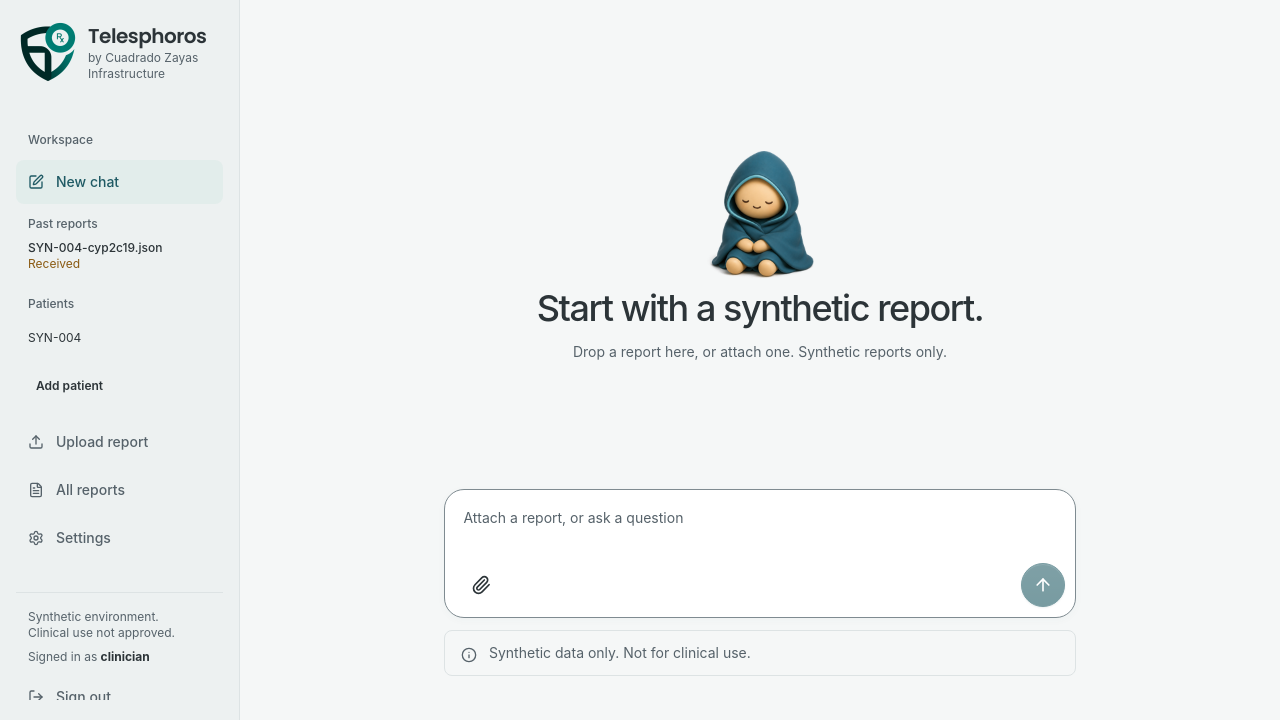
Scenario: the chat-first home in every build (specs/024) › never reaches the sample engine, and offers no sample-question buttons (CH-5)
This screenshot has width=1280, height=720.
Expected: the heading "Start with a synthetic report." is shown, top-left (537, 286), bottom-right (983, 330)
In the text box labelled "question": coordinates (762, 528) top-left (459, 500), bottom-right (1065, 556), type "Explain this example"
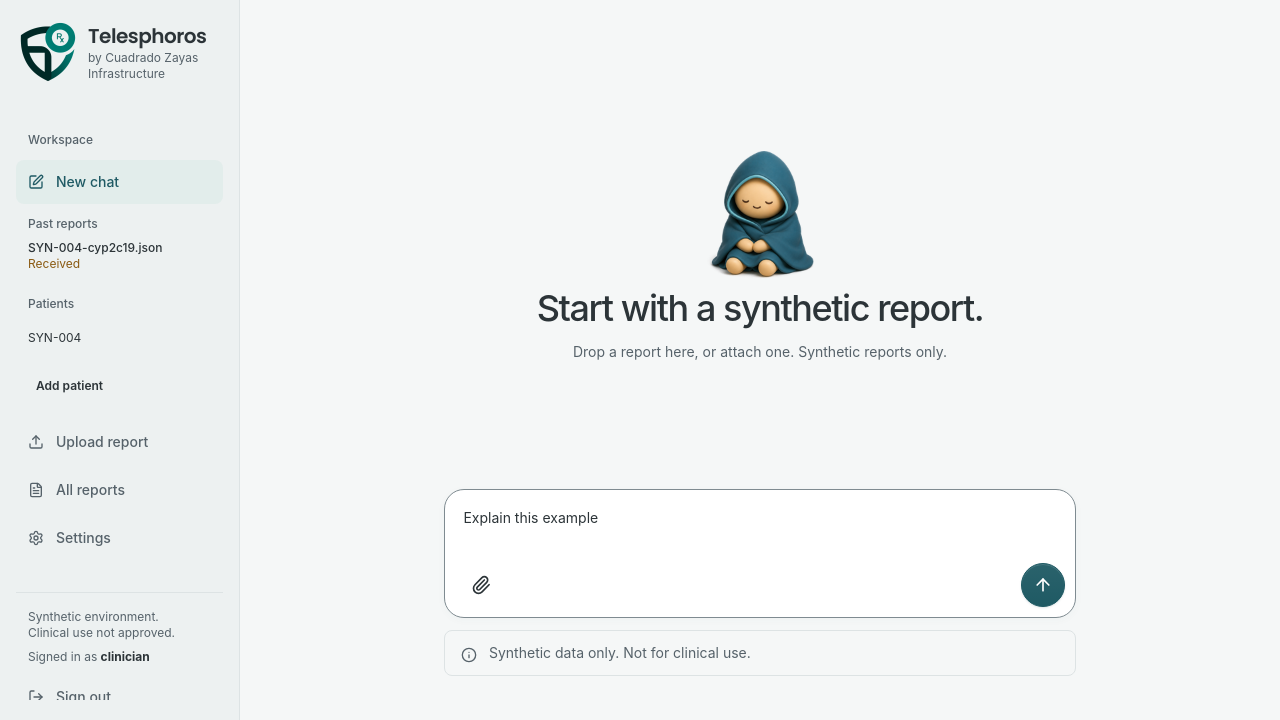
Click the button named "Send": coordinates (1043, 585) top-left (1021, 563), bottom-right (1065, 607)
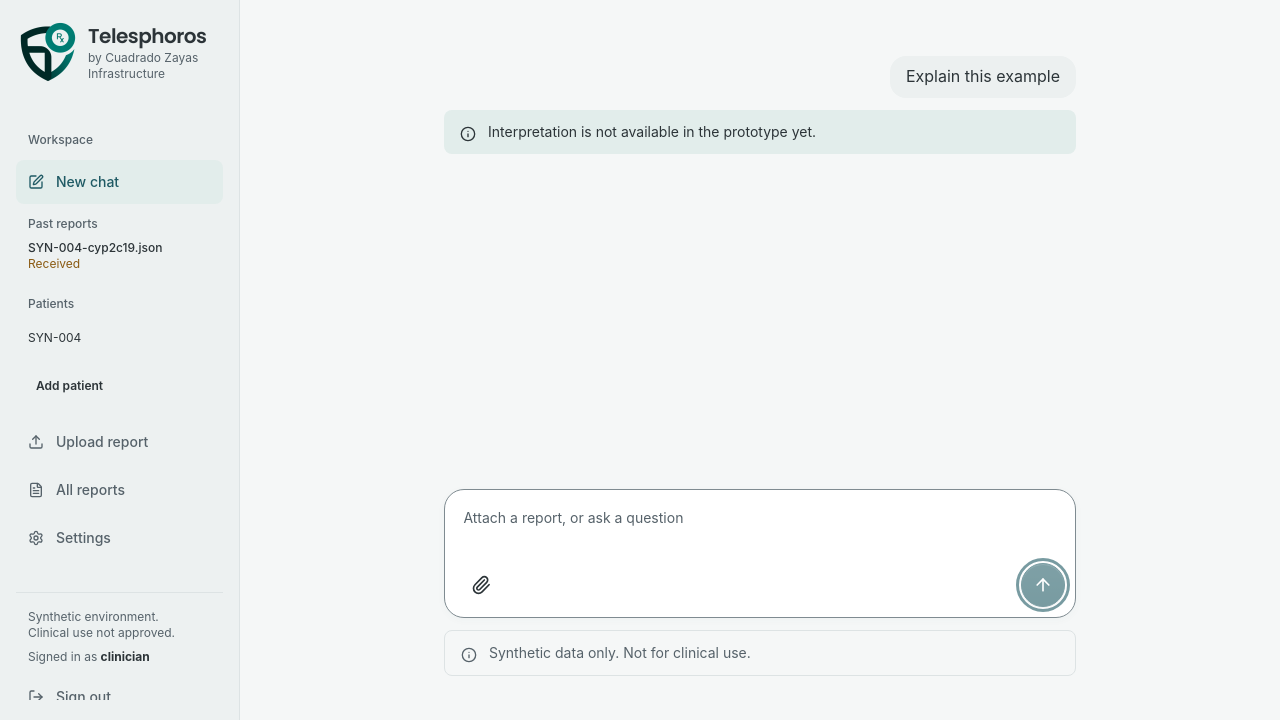
Now the text "Interpretation is not available in the prototype yet." is shown, box top-left (488, 122), bottom-right (816, 142)
